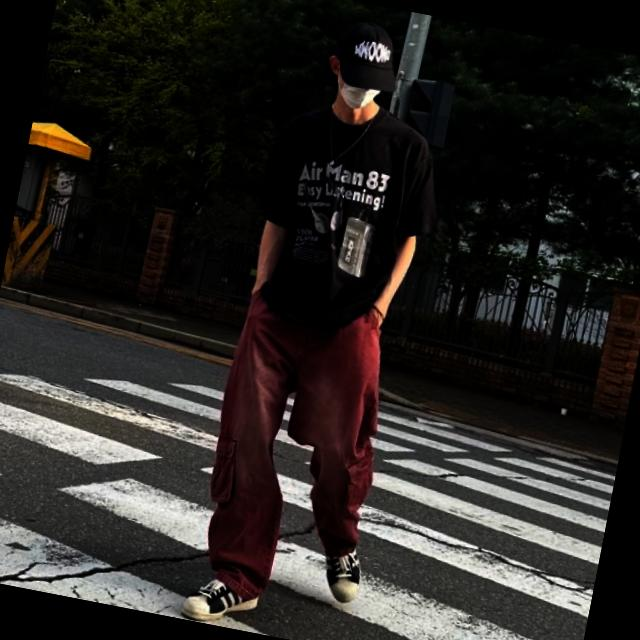cottonpants: (188, 281, 406, 623)
shortsleeve: (241, 89, 453, 339)
